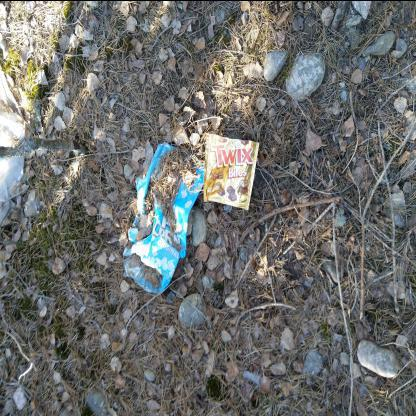plastik: (123, 142, 207, 294), (204, 133, 261, 211)
